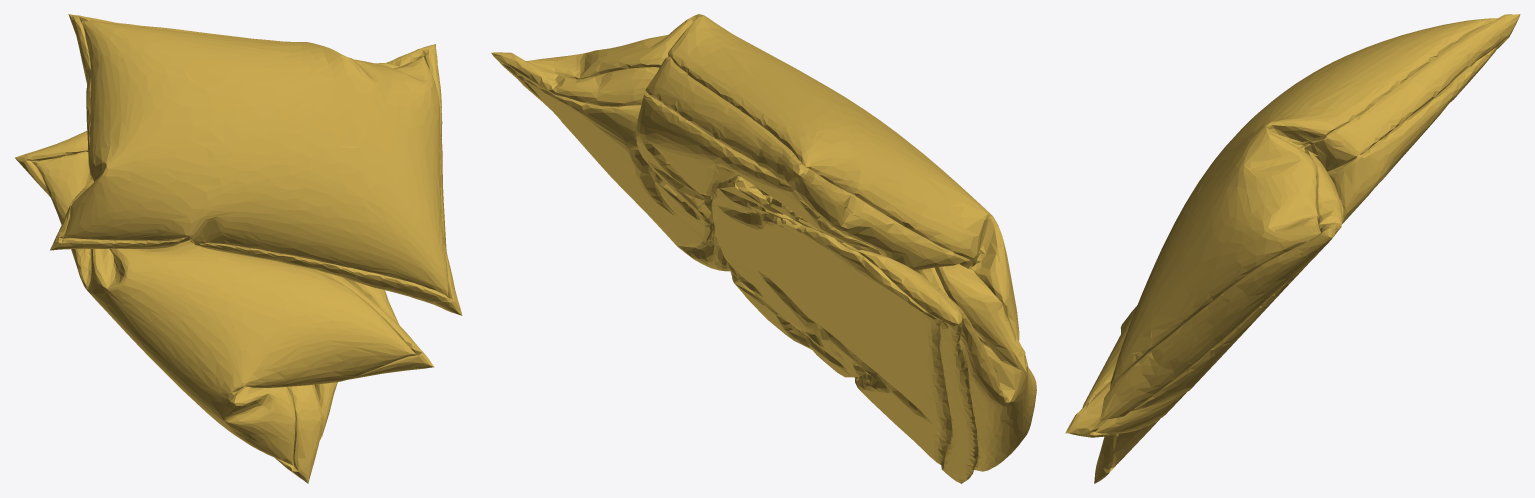
File: Pillow.dae
The picture shows the model from 3 angles, left to right: view 1: azimuth 30°, elevation 25°; view 2: azimuth 150°, elevation 25°; view 3: azimuth 270°, elevation 25°; orthographic projection. The views are drawn at different scales.
Parts seen in each view (by area): view 1: PillowOBJ_Pillow; view 2: PillowOBJ_Pillow; view 3: PillowOBJ_Pillow.
Part boxes in pixels (box(x1,y1,x2,y2)): PillowOBJ_Pillow: box(15, 14, 462, 483); PillowOBJ_Pillow: box(491, 14, 1036, 483); PillowOBJ_Pillow: box(1065, 14, 1520, 483).
Size of the model in its own units: 17.05 by 15.47 by 14.71.
